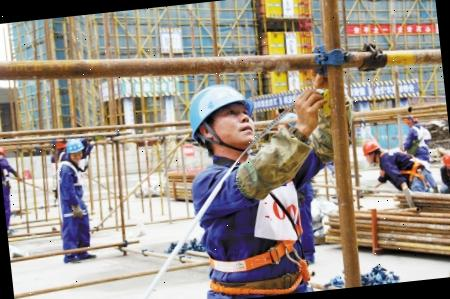helmet: (184, 79, 258, 145), (360, 137, 383, 154), (65, 136, 86, 154)
wear: (56, 160, 86, 210), (382, 148, 421, 183)
